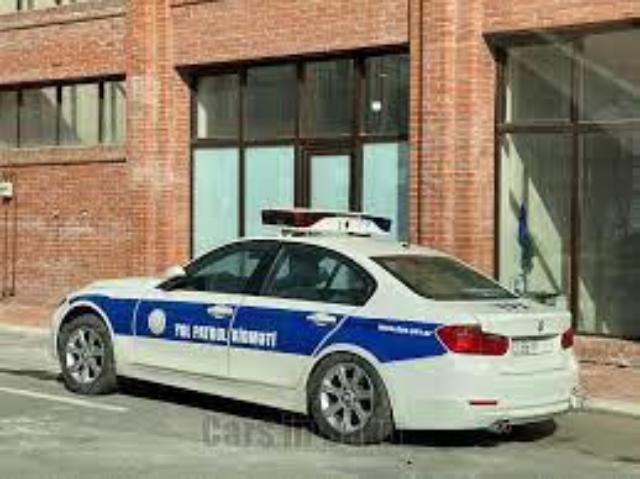police_car: (54, 210, 576, 435)
